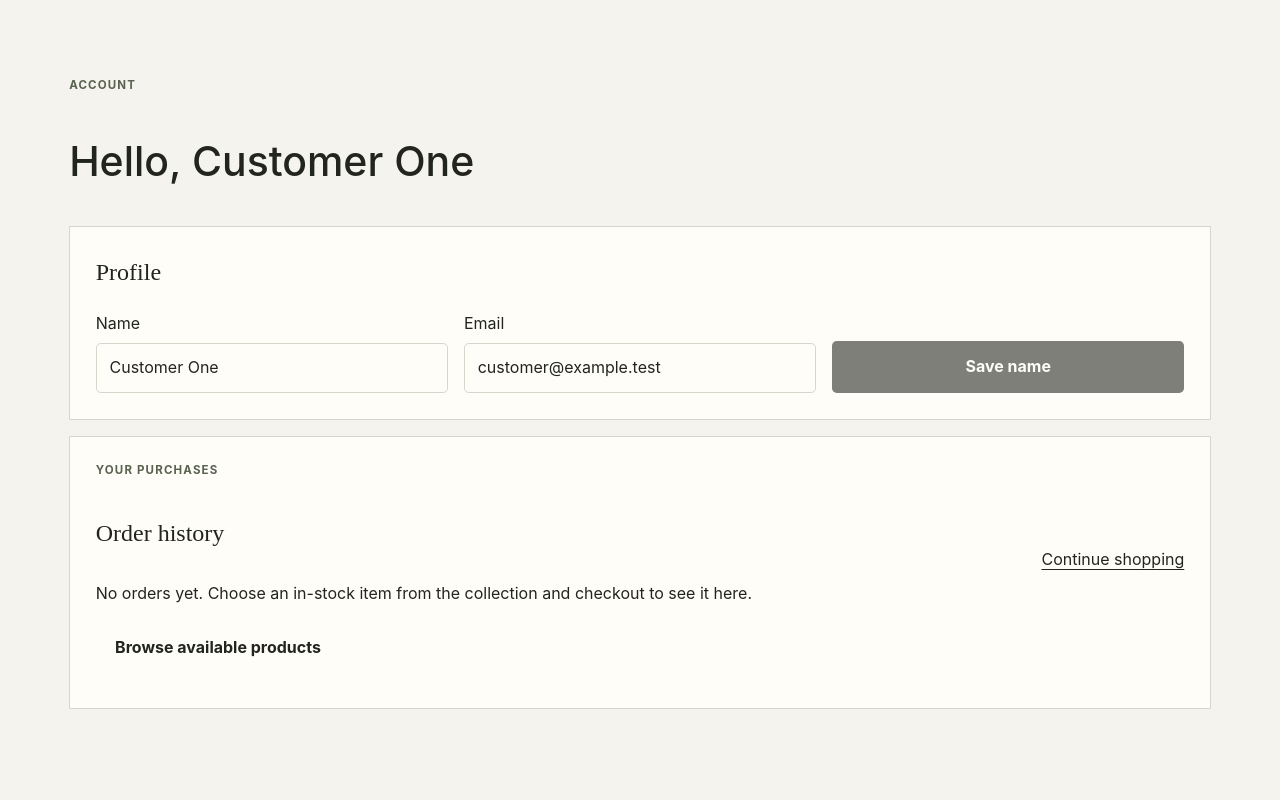
Test: customer account page › shows profile data, an honest empty order state and can save the profile name
Expected: the text "No orders yet" is shown, [96,582,752,602]
Replace the text in the field labelled "Name" with "Updated Customer" at [272, 368], box [96,343,448,393]
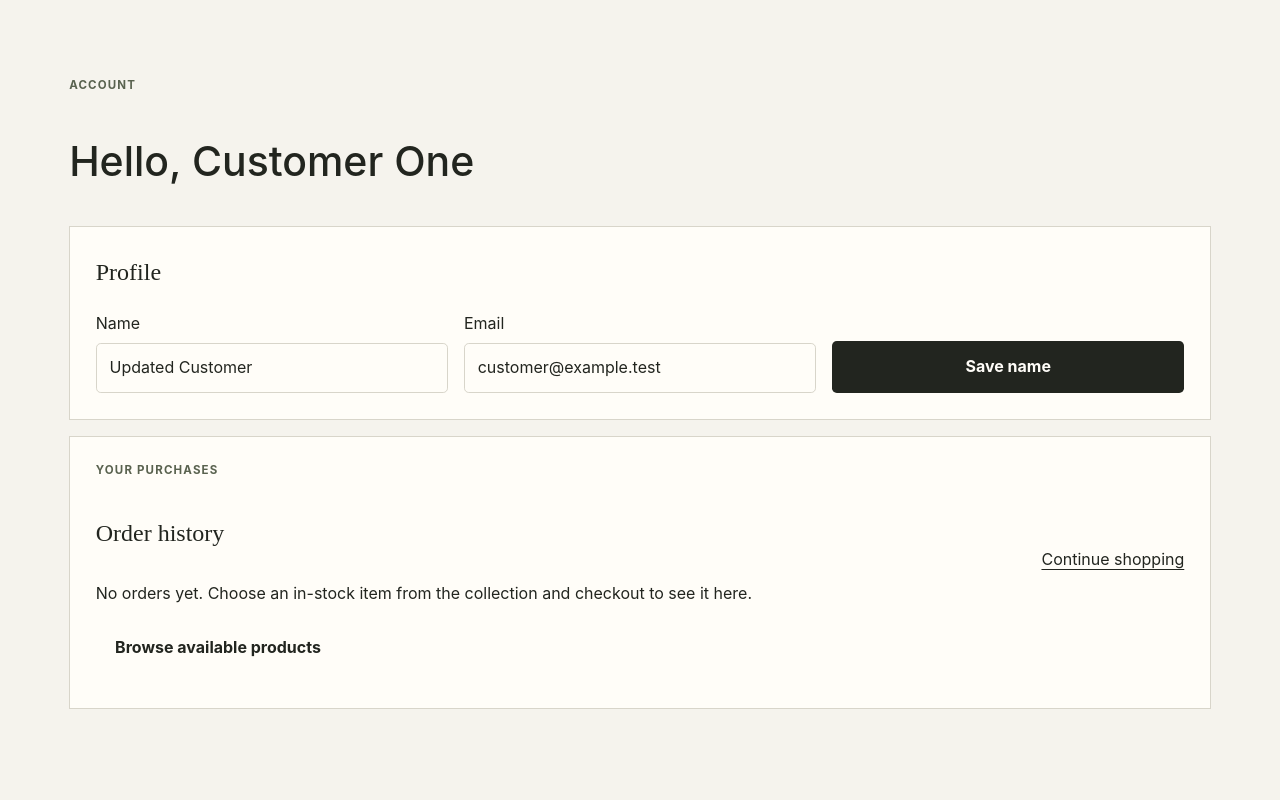
Click the button "Save name".
click(1008, 367)  # box [832,341,1184,393]
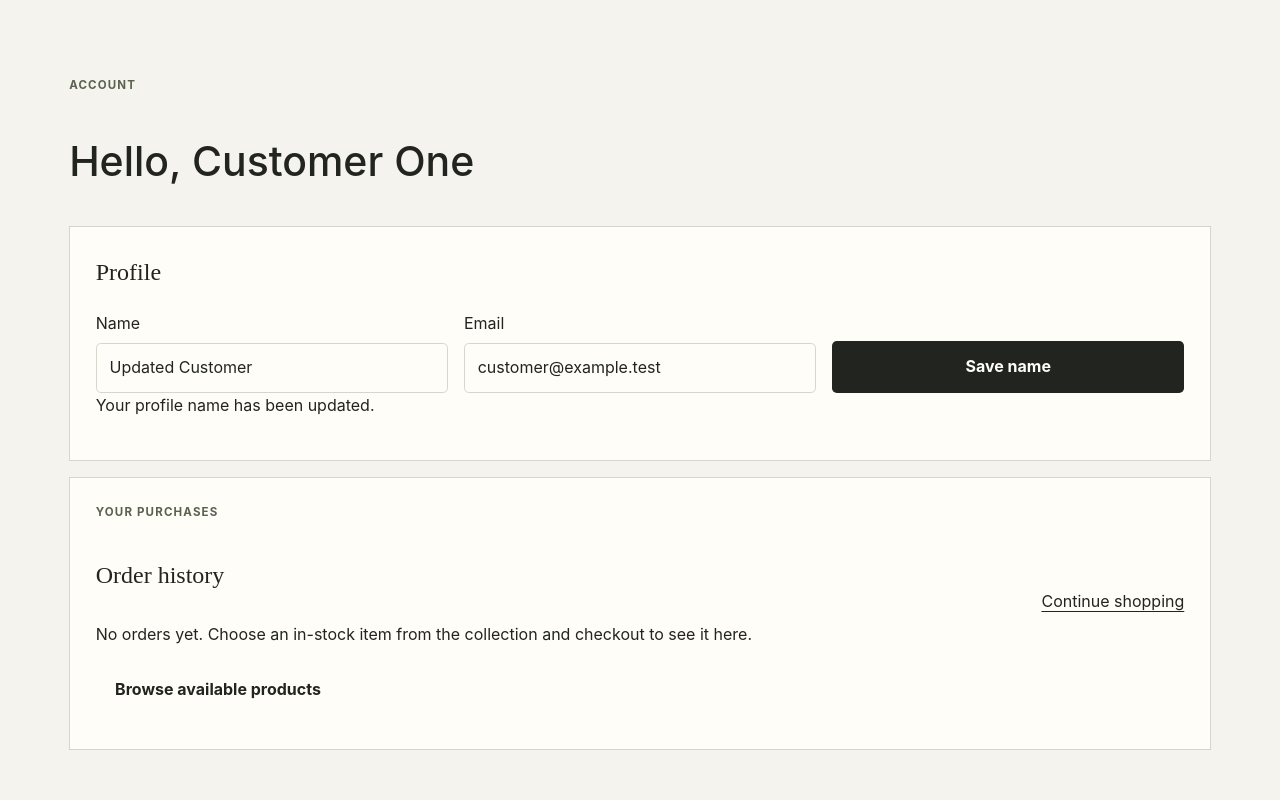
Expected: the text "Your profile name has been updated." is shown, [96,395,374,415]
